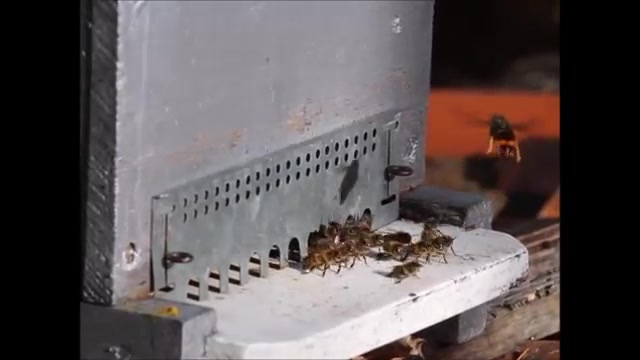bee: (305, 249, 342, 275), (385, 263, 423, 283), (421, 234, 456, 254), (379, 231, 415, 249), (343, 237, 371, 257)
hornet: (481, 114, 529, 168)
